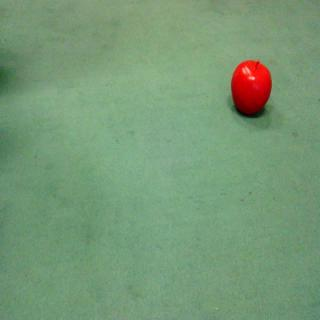apple: (221, 52, 280, 131)
